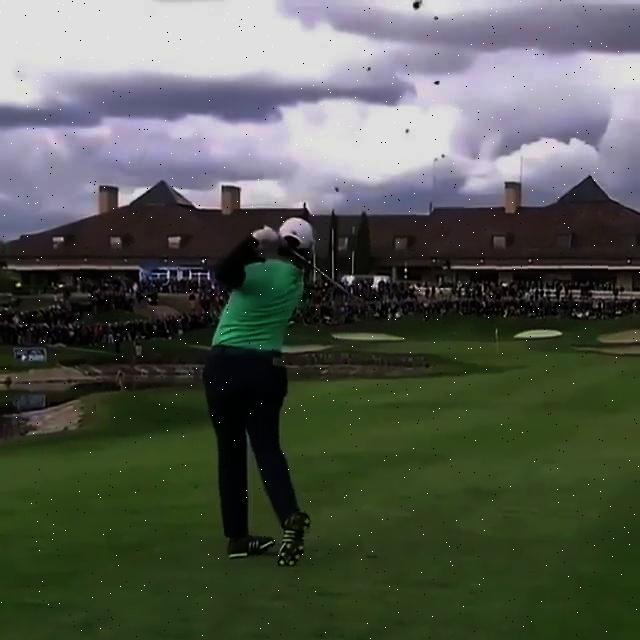ClubHandle: (281, 244, 384, 321)
